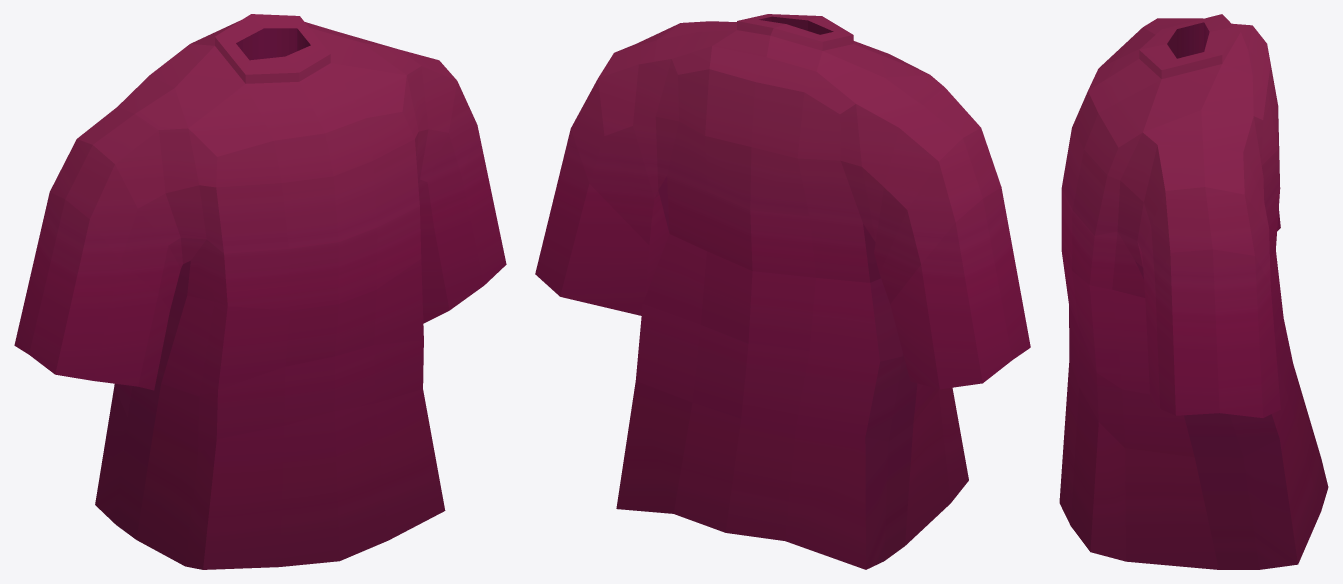
The model's file is TShirt_Red.glb.
The picture shows the model from 3 angles, left to right: view 1: azimuth 30°, elevation 25°; view 2: azimuth 150°, elevation 25°; view 3: azimuth 270°, elevation 25°; orthographic projection.
Parts seen in each view (by area): view 1: TShirt_Red; view 2: TShirt_Red; view 3: TShirt_Red.
Part boxes in pixels (x1,y1,x2,y2): TShirt_Red: (14, 14, 506, 569); TShirt_Red: (535, 14, 1030, 569); TShirt_Red: (1059, 14, 1328, 569).
Size of the model in its own units: 2.43 by 2.48 by 1.25.
Materials: 1 (1 with a texture image).
